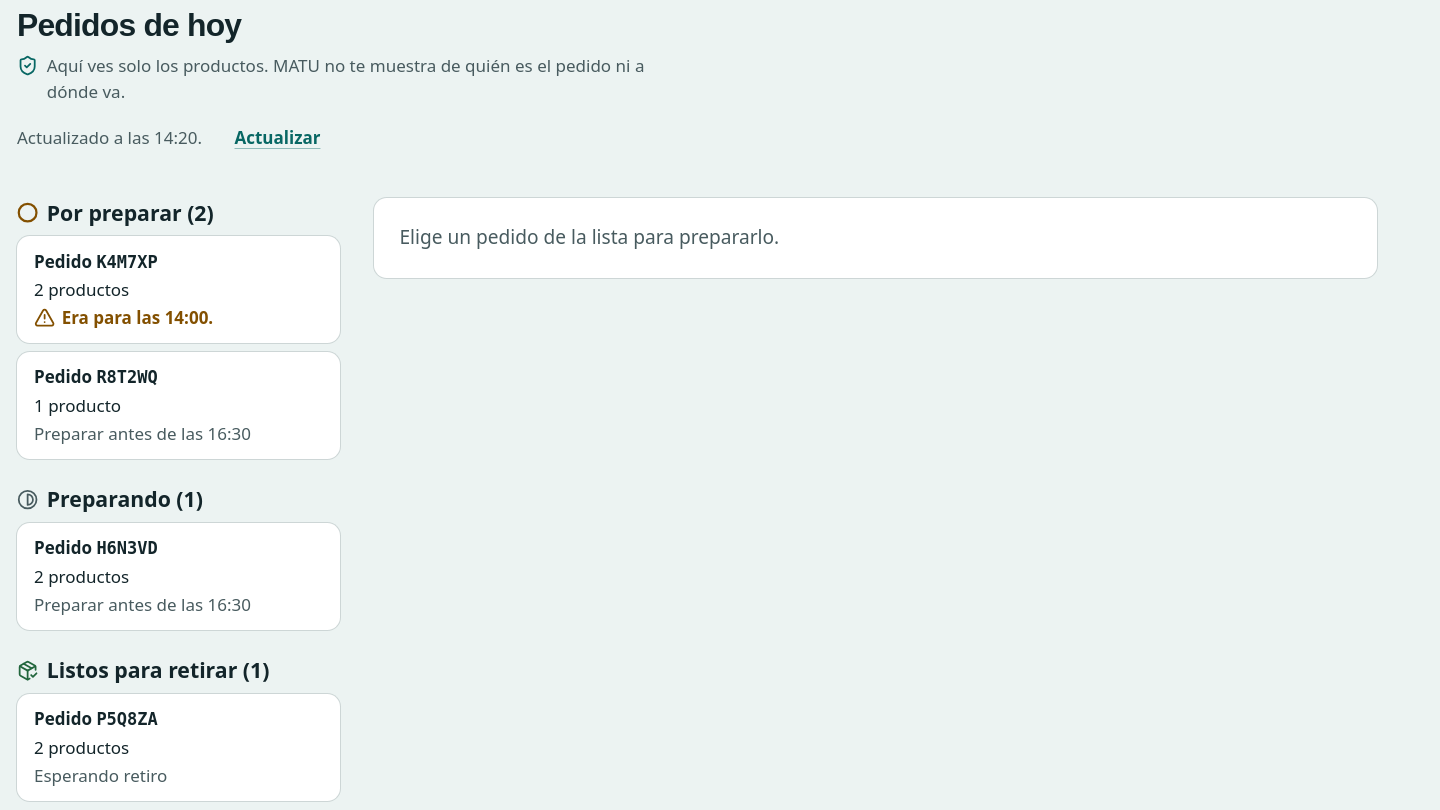
Por preparar › 404: «Este pedido ya no está en tu lista.» y «Volver a los pedidos»
(page scrolled)
Expected: the heading "Por preparar (2)" is shown, top-left (47, 198), bottom-right (214, 226)
Click the button "Pedido R8T2WQ 1 producto Preparar antes de las 16:30" at (63, 377), box top-left (17, 352), bottom-right (340, 459)
(page scrolled)
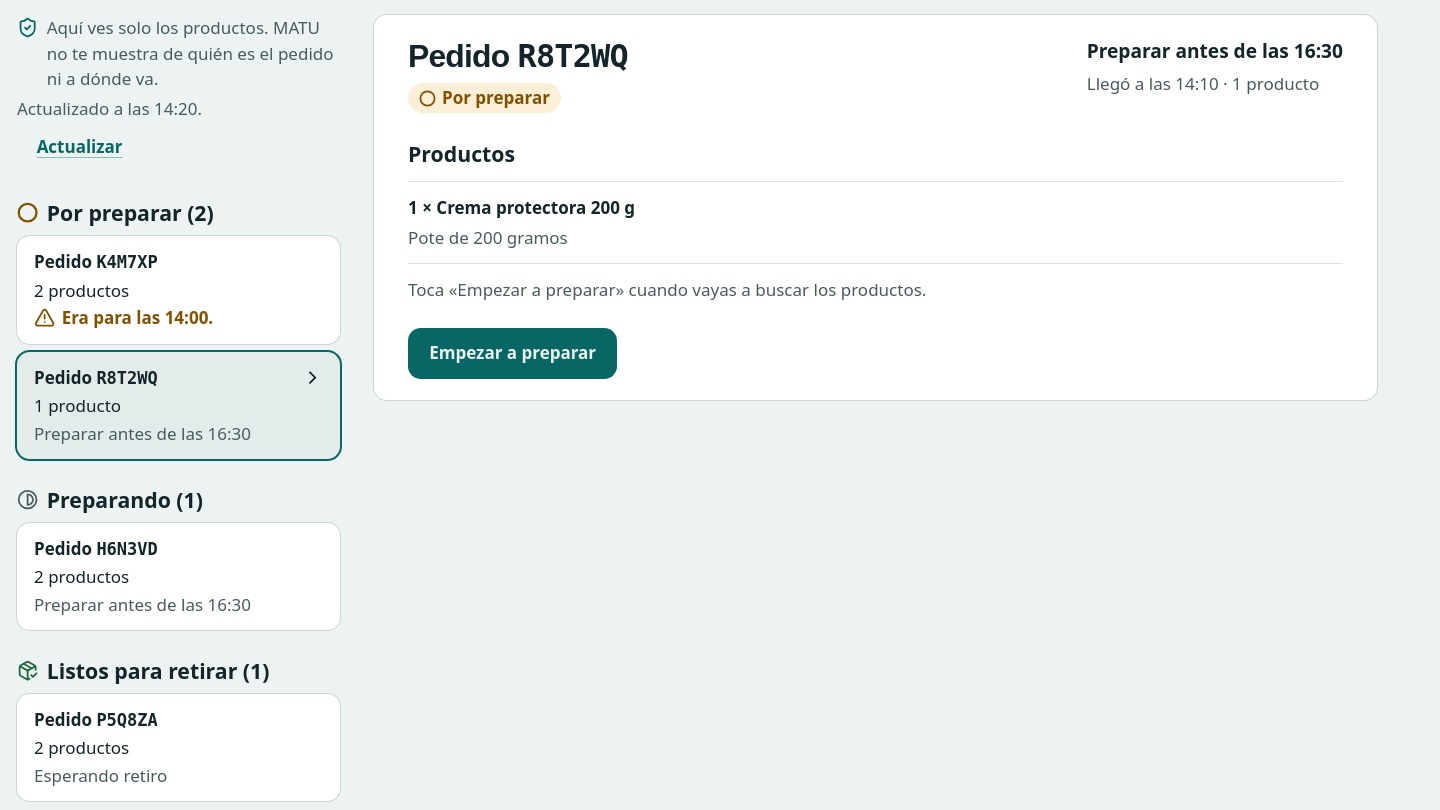
Click the button "Empezar a preparar" at (513, 353), box top-left (408, 328), bottom-right (617, 378)
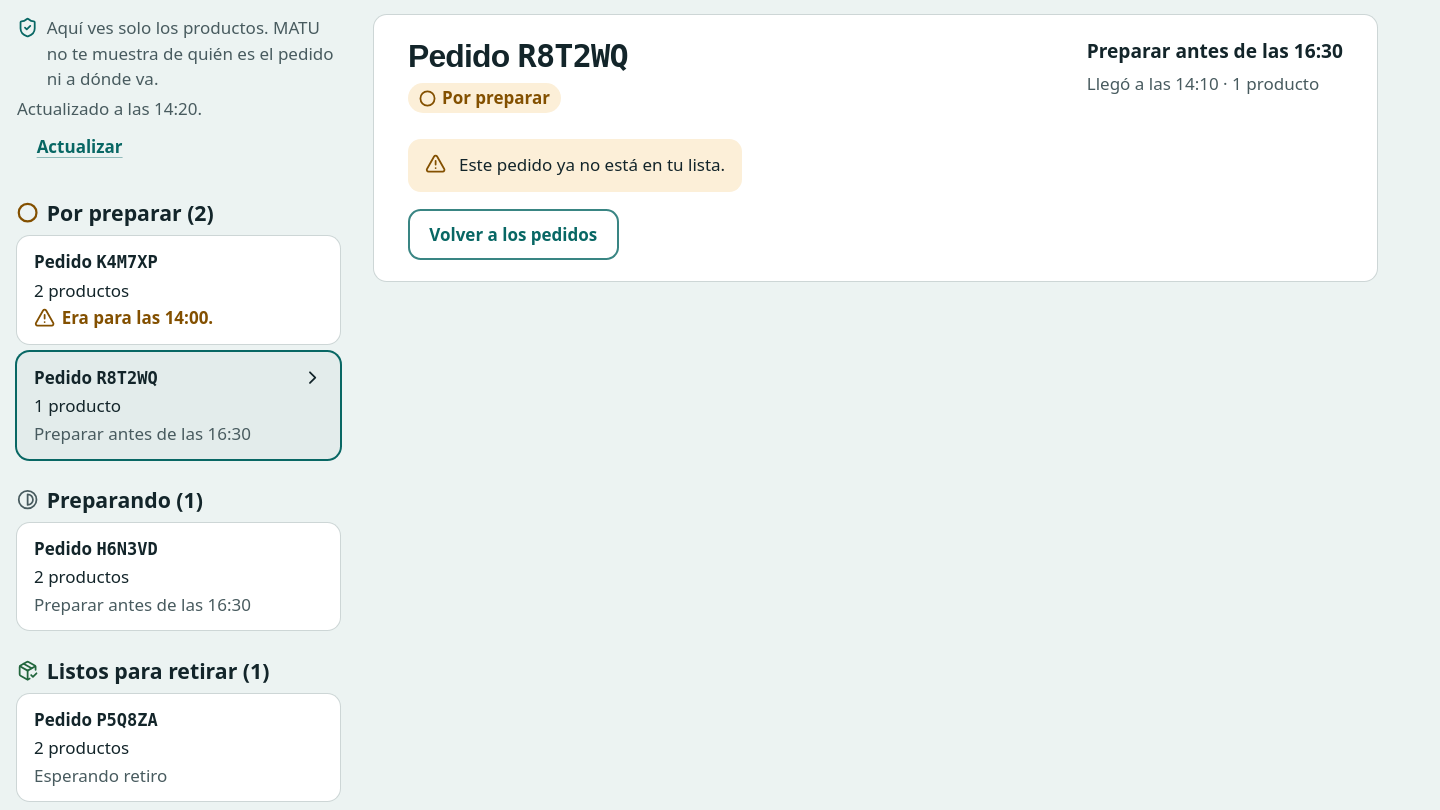
Now the text "Este pedido ya no está en tu lista." is shown, box top-left (459, 151), bottom-right (725, 179)
